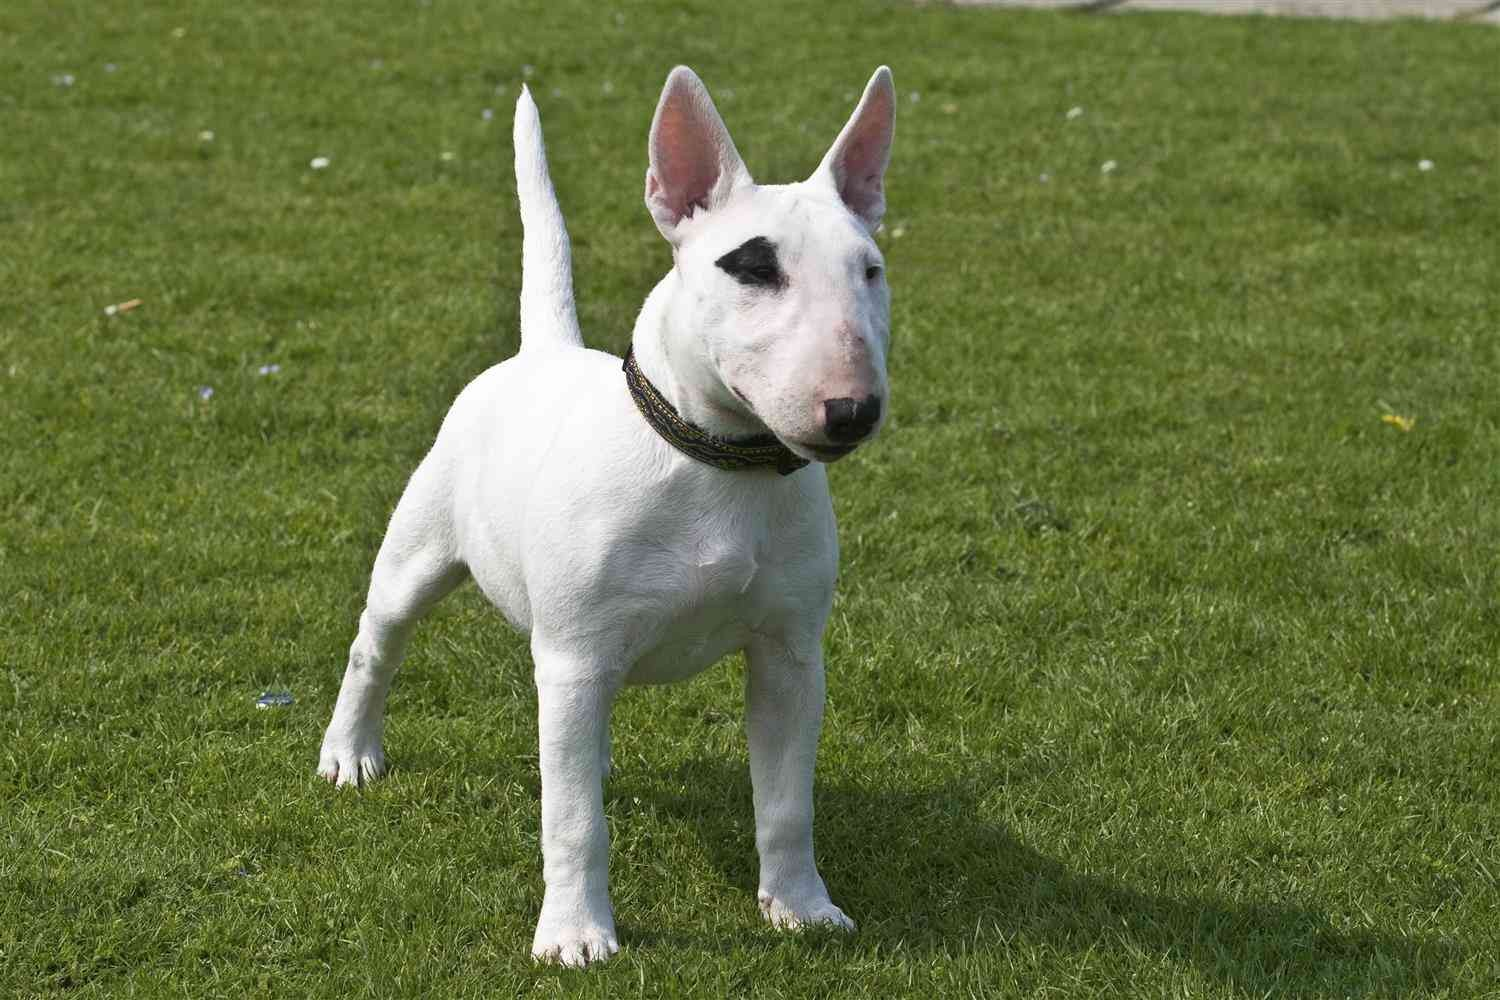bull_terrier: (312, 64, 901, 965)
